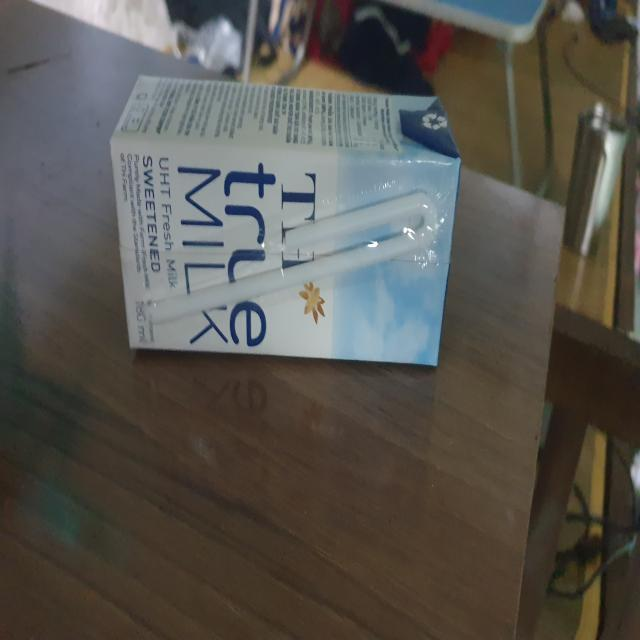TH: (109, 71, 464, 381)
